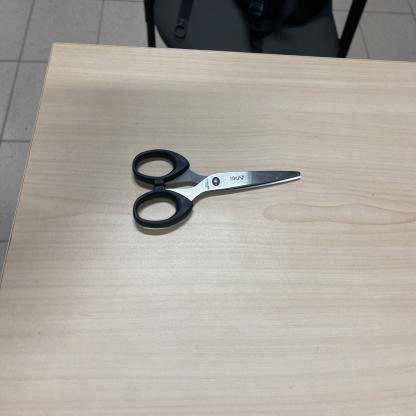scissors: (132, 150, 301, 228)
